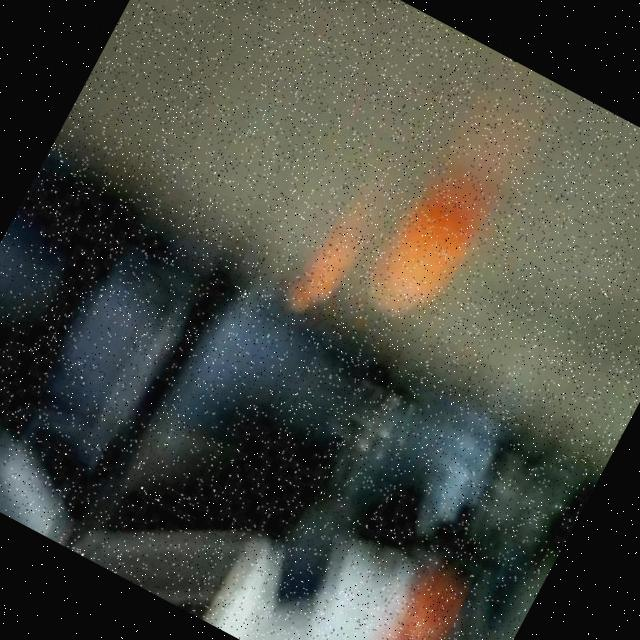ping-pong-ball: (367, 185, 482, 313), (294, 227, 366, 309)
